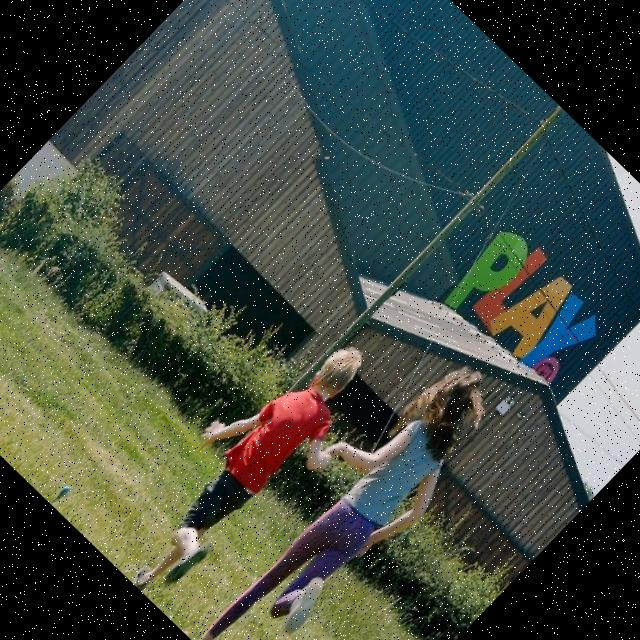Person: (166, 335, 519, 640), (93, 310, 400, 622)
